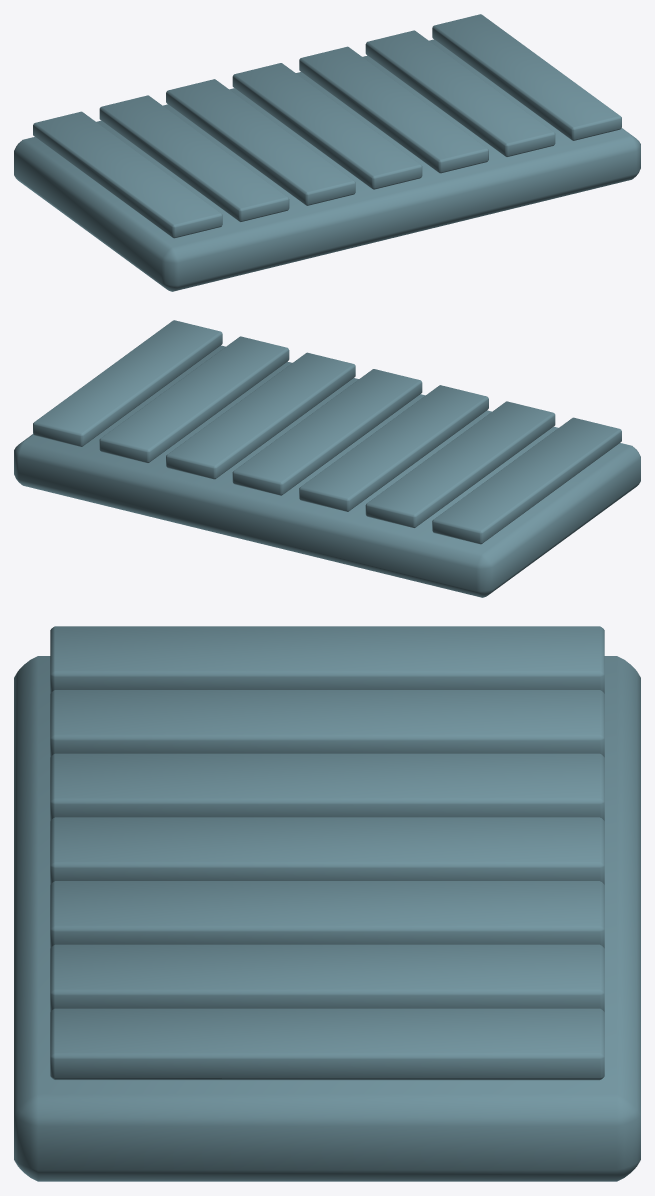
The model's file is Radiator.fbx.
The picture shows the model from 3 angles, top to bottom: view 1: azimuth 30°, elevation 25°; view 2: azimuth 150°, elevation 25°; view 3: azimuth 270°, elevation 25°; orthographic projection. The views are drawn at different scales.
Parts seen in each view (by area): view 1: Render_LOD0; view 2: Render_LOD0; view 3: Render_LOD0.
Boxes of the visible parts, bbox=[...] form: Render_LOD0: bbox=[14, 14, 640, 291]; Render_LOD0: bbox=[14, 320, 640, 597]; Render_LOD0: bbox=[14, 626, 640, 1181].
Size of what is drawn, in the model's own units: 1.8 by 0.225 by 1.04.
